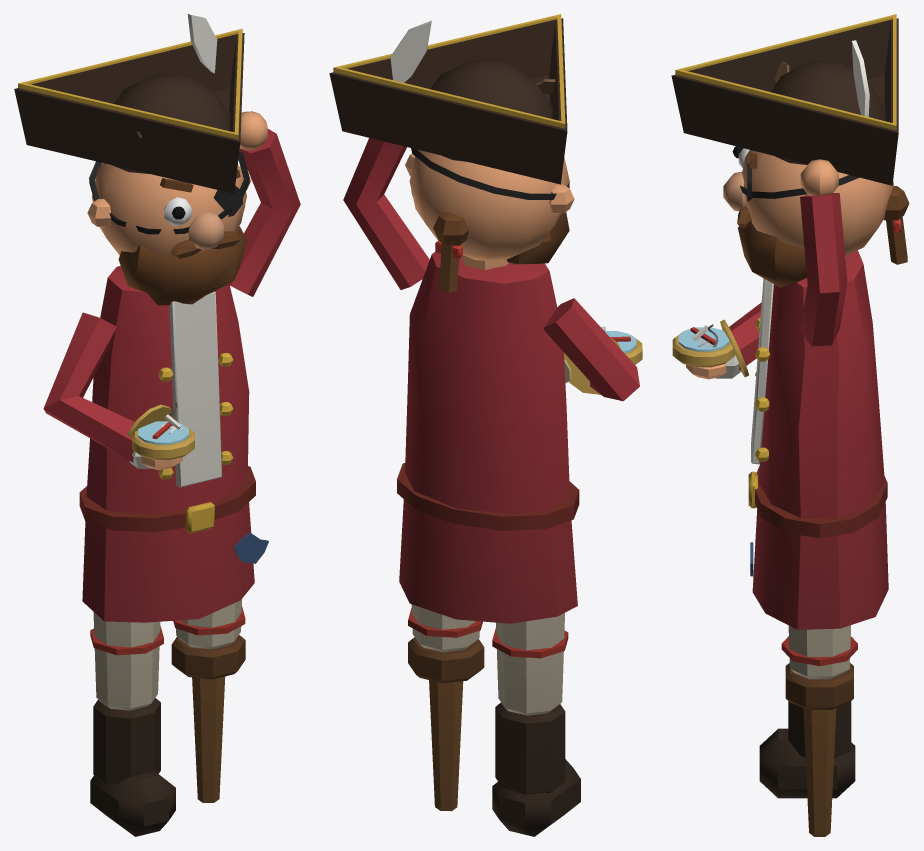
The model's file is 114_pirate_deboussole.fbx.
3 views of the same model, side by side, from view 1: azimuth 30°, elevation 25°; view 2: azimuth 150°, elevation 25°; view 3: azimuth 270°, elevation 25° (orthographic). The views are drawn at different scales.
Visible parts, largest first — view 1: Corps, Chapeau, Boussole; view 2: Corps, Chapeau, Boussole; view 3: Corps, Chapeau, Boussole.
Part boxes in pixels (bbox=[...]): Corps: bbox=[43, 111, 300, 836]; Chapeau: bbox=[14, 14, 244, 193]; Boussole: bbox=[127, 402, 194, 459]; Corps: bbox=[343, 138, 639, 836]; Chapeau: bbox=[329, 14, 567, 184]; Boussole: bbox=[564, 326, 642, 394]; Corps: bbox=[686, 146, 909, 836]; Chapeau: bbox=[671, 14, 898, 185]; Boussole: bbox=[672, 319, 748, 377].
Bounding box in the file's own units: 0.56 × 1.54 × 0.42.
Materials: 1 (1 with a texture image).
